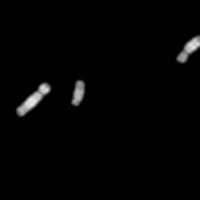chromosome: (16, 82, 51, 117), (176, 35, 200, 65), (71, 80, 85, 106)
